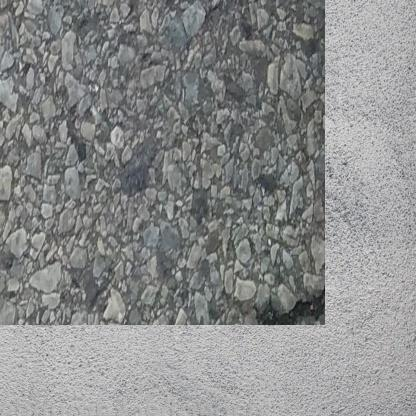Cracks: (238, 254, 300, 301)
